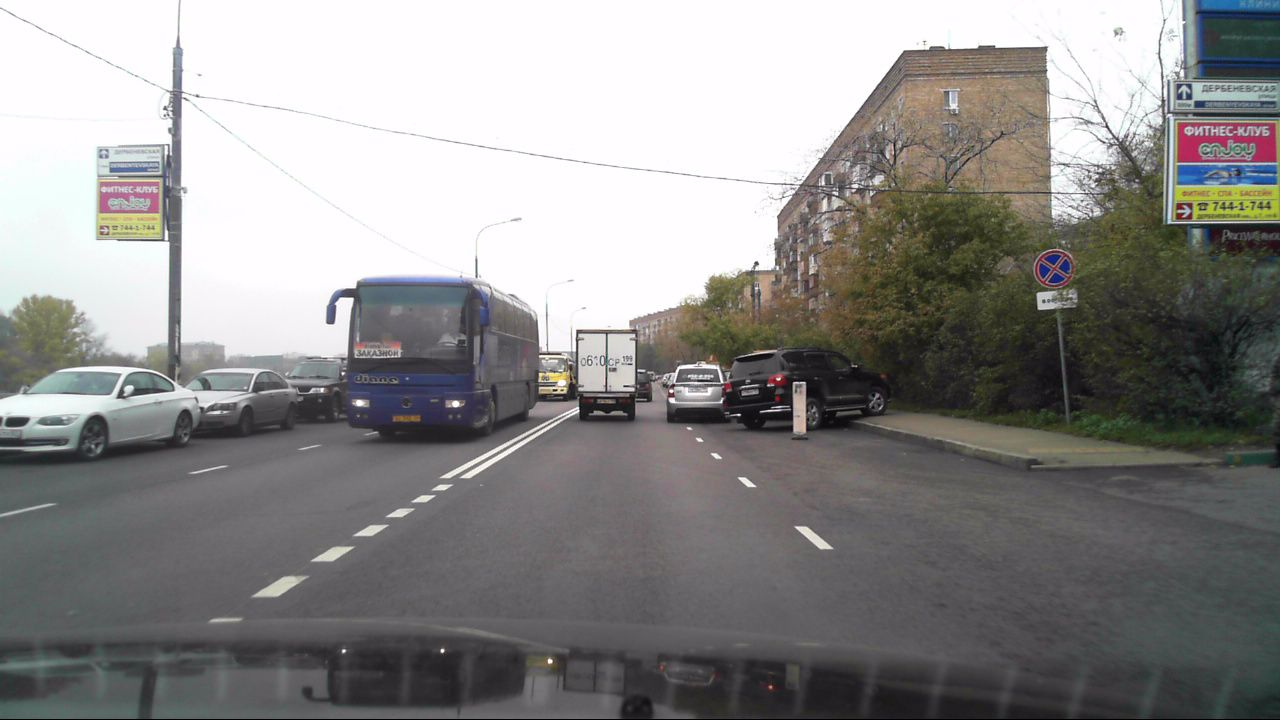No Parking: (1032, 247, 1074, 288)
